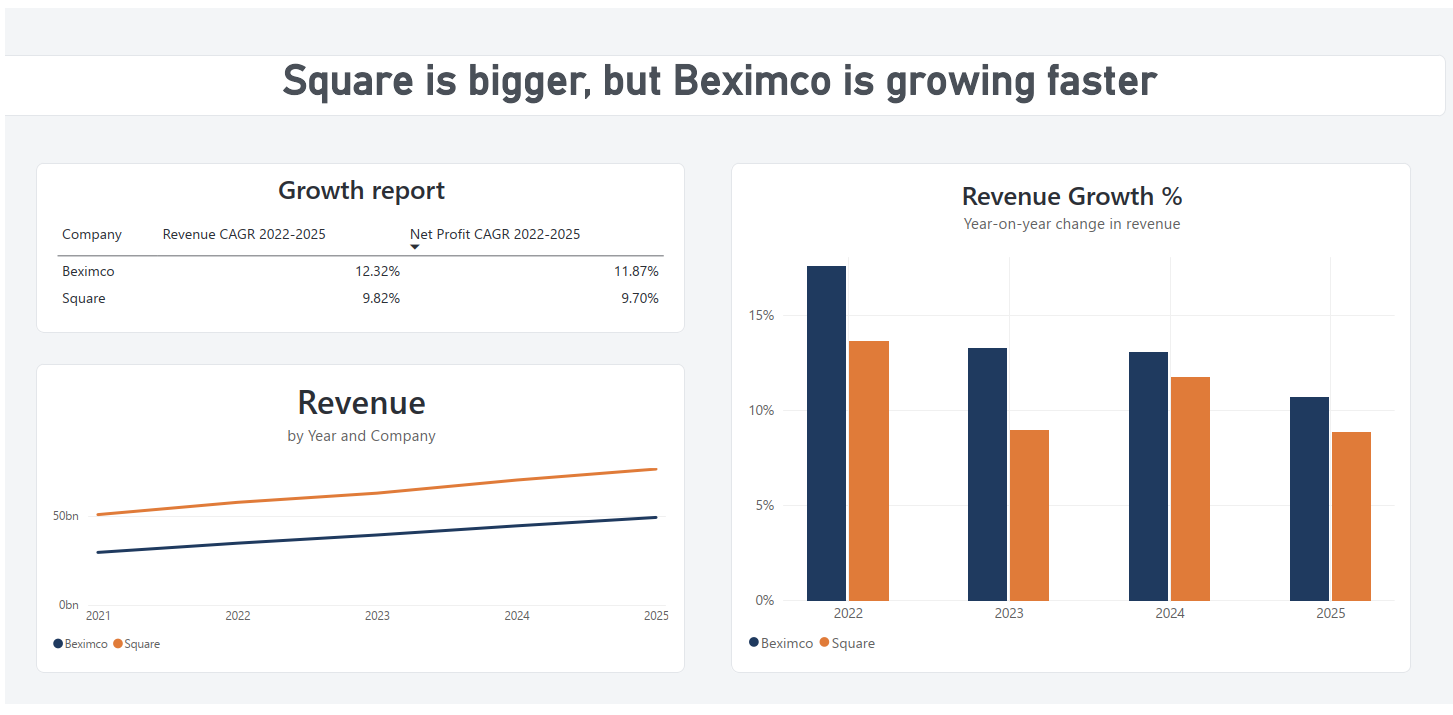

The page's visual inventory and layout, read from the dashboard file:
{"tool":"powerbi","page":{"name":"Growth","canvas":[1500,720],"ordinal":0},"visuals":[{"type":"textbox","box":[-12,48,1504,64],"z":0},{"type":"lineChart","fields":{"Category":["Data.Year"],"Series":["Data.Company"],"Y":["Measure.Revenue"]},"box":[32,368,672,320],"z":1000},{"type":"clusteredColumnChart","title":"Revenue Growth %","fields":{"Category":["Data.Year"],"Series":["Data.Company"],"Y":["Measure.Revenue Growth %"]},"box":[752,160,704,528],"z":2000},{"type":"tableEx","title":"Growth report","fields":{"Values":["Data.Company","Measure.Revenue CAGR 2022-2025","Measure.Net Profit CAGR 2022-2025"]},"box":[32,160,672,176],"z":3000}]}

Visuals, with their boxes in screenshot pixels (x1, y1, x2, y2), scaled from the page's 1500x720 canvas onto the 1453x715 screenshot:
textbox: (x1=0, y1=48, x2=1445, y2=111)
lineChart - Data.Year x Data.Company: (x1=31, y1=365, x2=682, y2=683)
"Revenue Growth %" clusteredColumnChart: (x1=728, y1=159, x2=1410, y2=683)
"Growth report" tableEx: (x1=31, y1=159, x2=682, y2=334)
